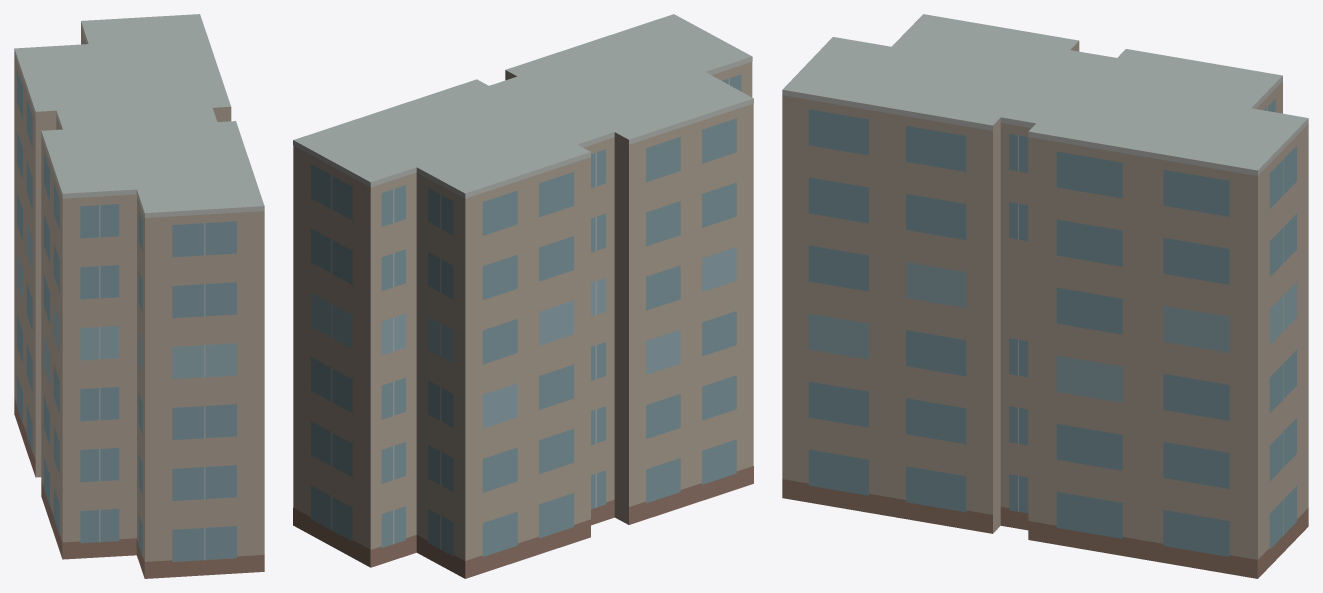
File: survey-upis-32999015.glb
3 renders of one model, left to right at view 1: azimuth 30°, elevation 25°; view 2: azimuth 150°, elevation 25°; view 3: azimuth 270°, elevation 25°, orthographic. The views are drawn at different scales.
Visible parts, largest first — view 1: survey-upis-32999015.tmp; view 2: survey-upis-32999015.tmp; view 3: survey-upis-32999015.tmp.
Part boxes in pixels (x1=…): survey-upis-32999015.tmp: x1=14, y1=14, x2=264, y2=578; survey-upis-32999015.tmp: x1=293, y1=14, x2=753, y2=578; survey-upis-32999015.tmp: x1=782, y1=14, x2=1308, y2=578.
Size of the model in its own units: 15.05 by 18.3 by 21.39.
